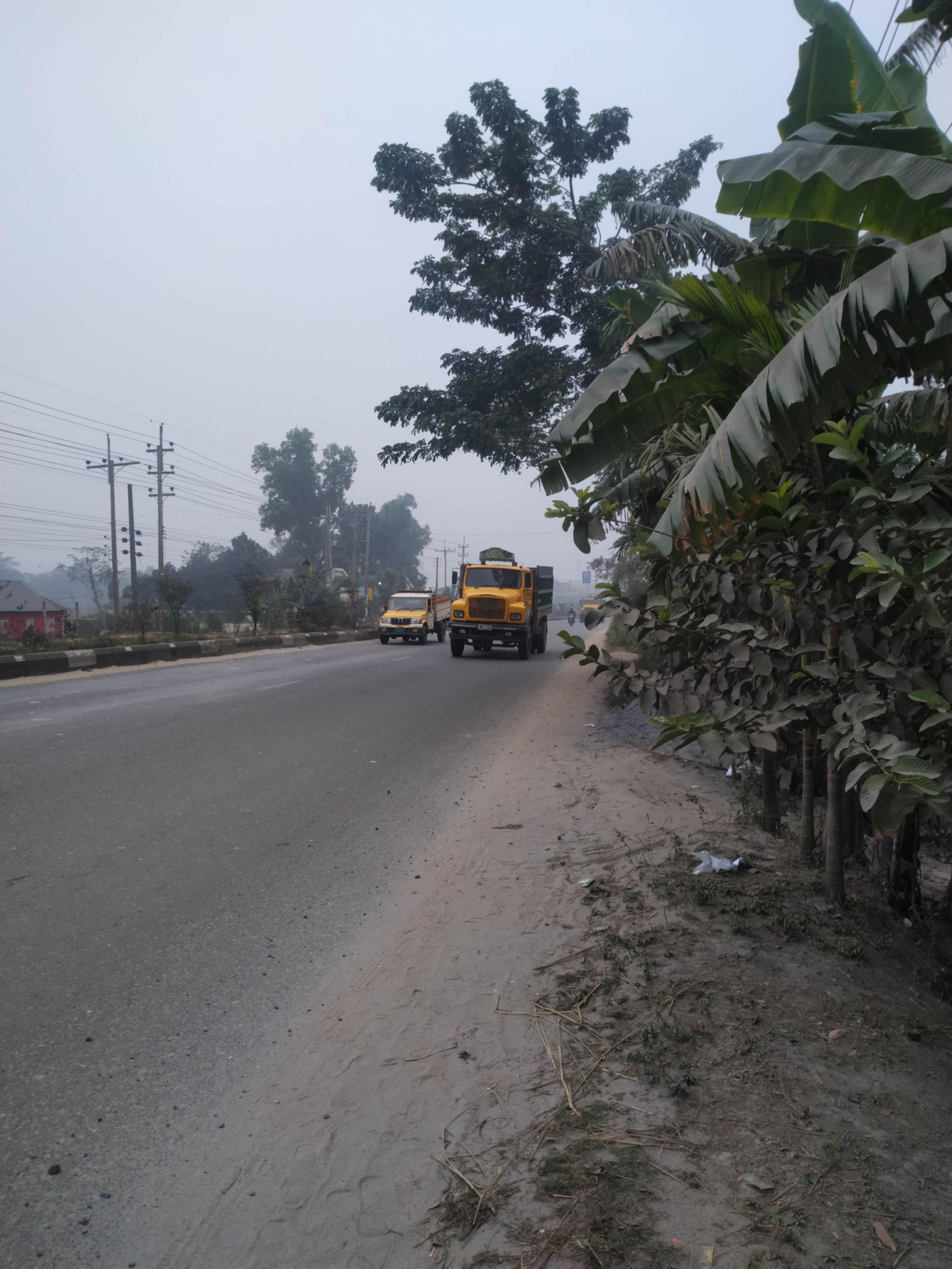Bike: (559, 595, 584, 637)
Truck: (443, 543, 570, 671), (377, 568, 452, 665), (578, 579, 611, 630)
